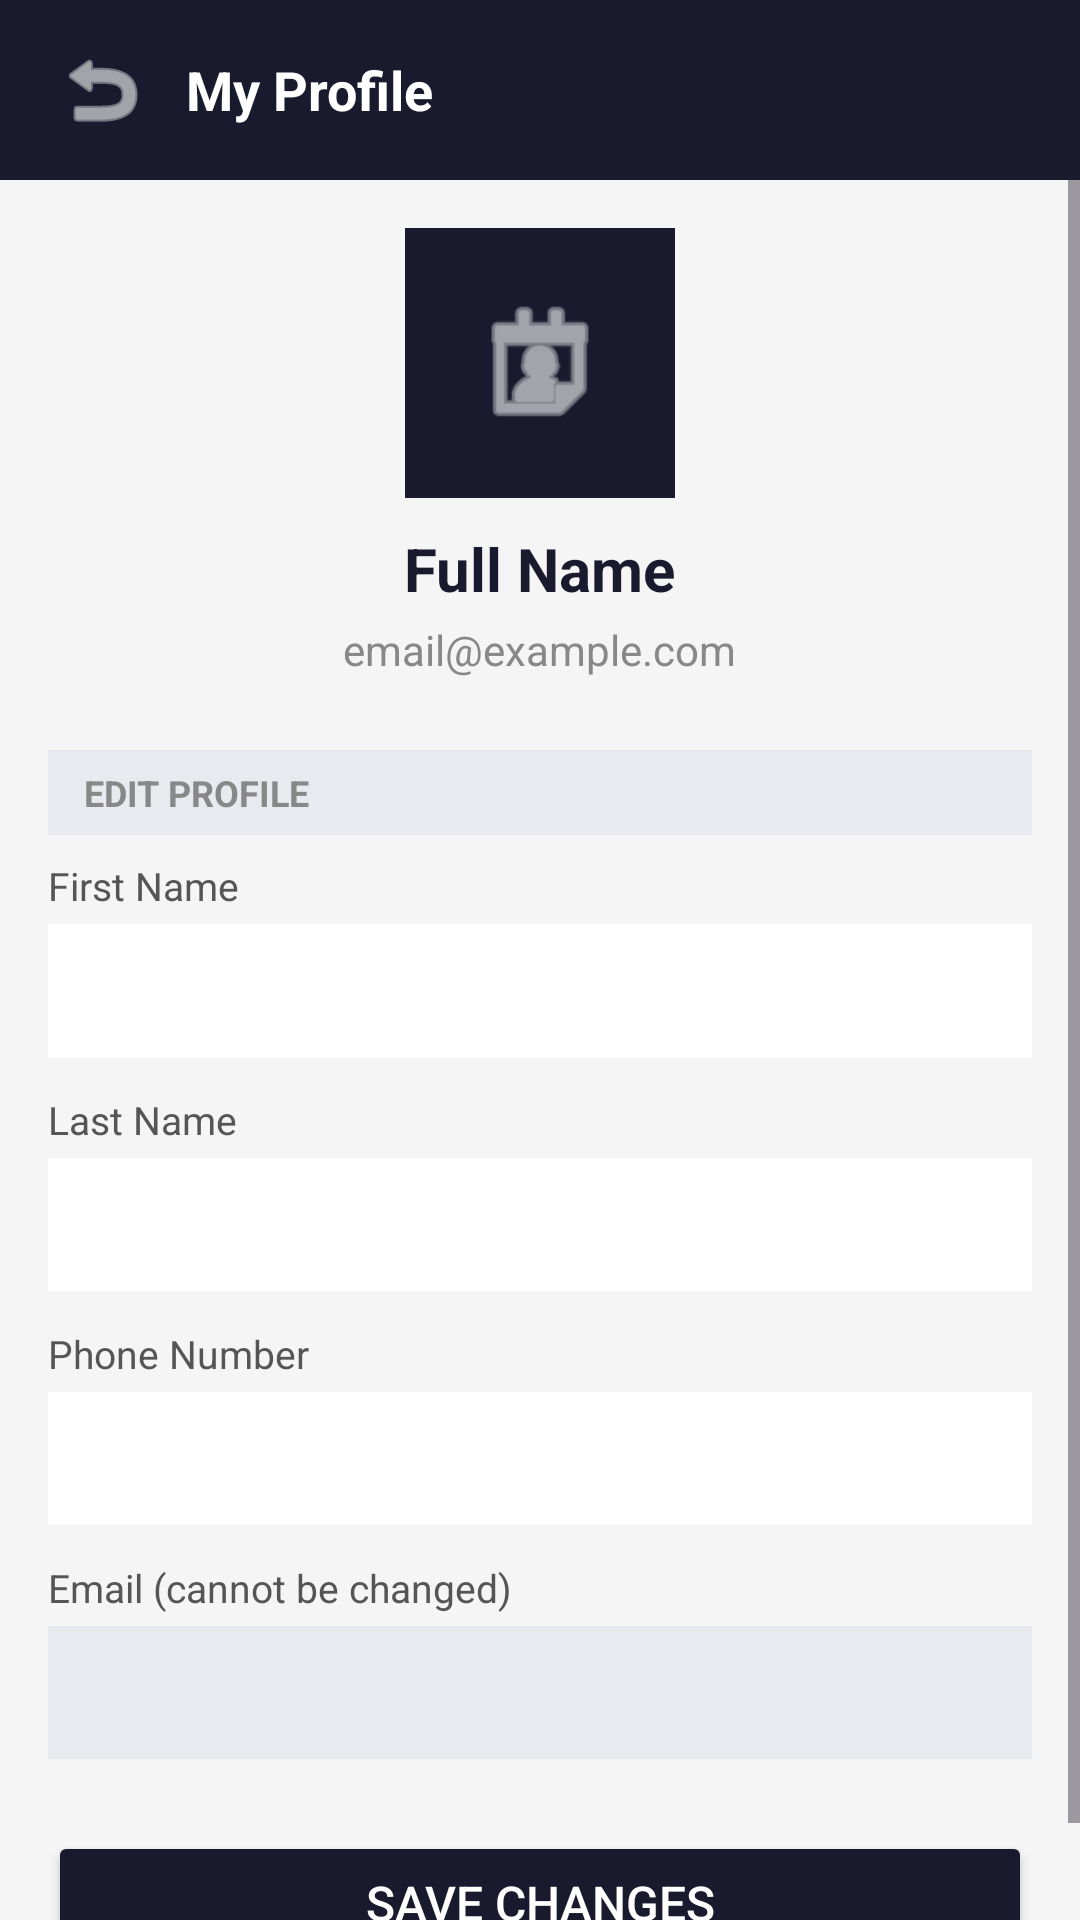

Named icons in this screenshot (1080×1920) and their centers, [x,y]:
Back: [103,90]
